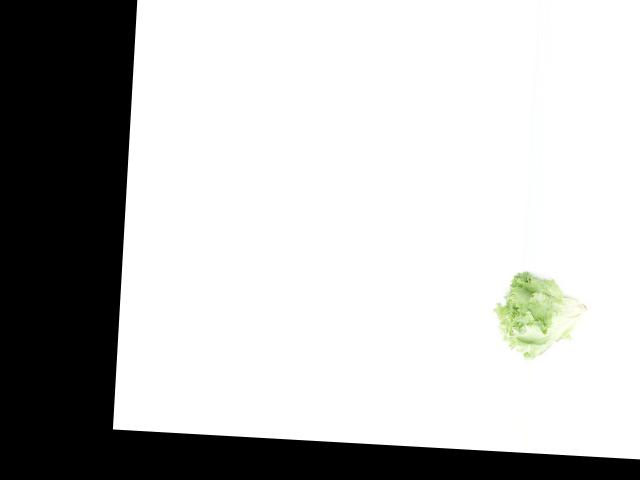lettuce: (493, 268, 590, 365)
